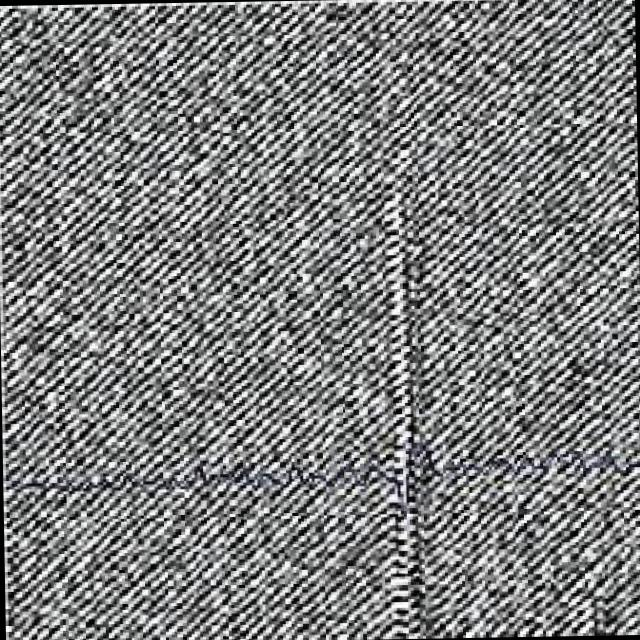cut: (366, 133, 444, 638)
